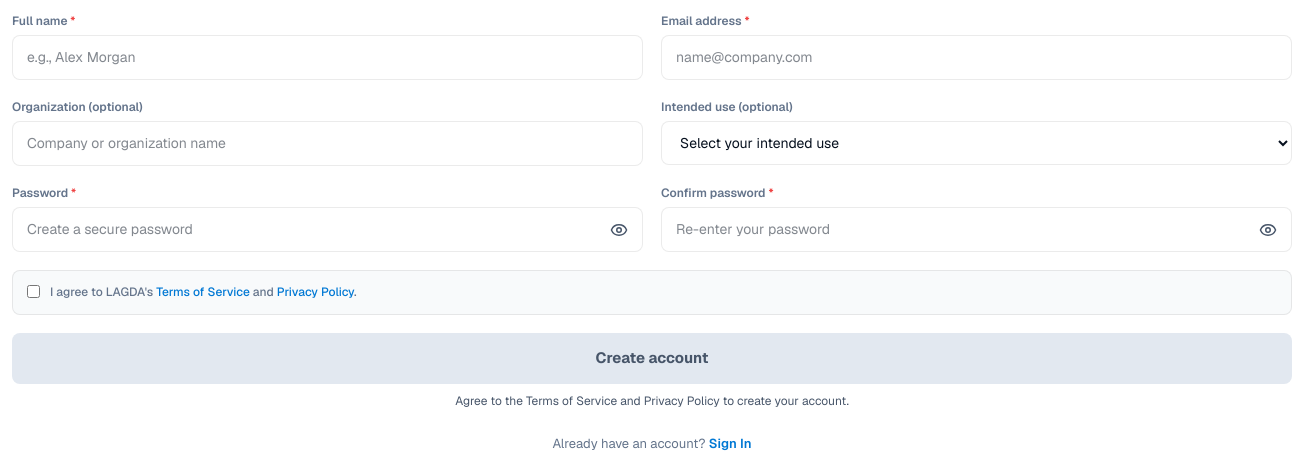
Test case: Create account — show / hide › gives Password and Confirm password their own, independent toggles
This screenshot has width=1304, height=468.
Click the button named "Show password".
click(619, 230)  # box [599,210,639,250]
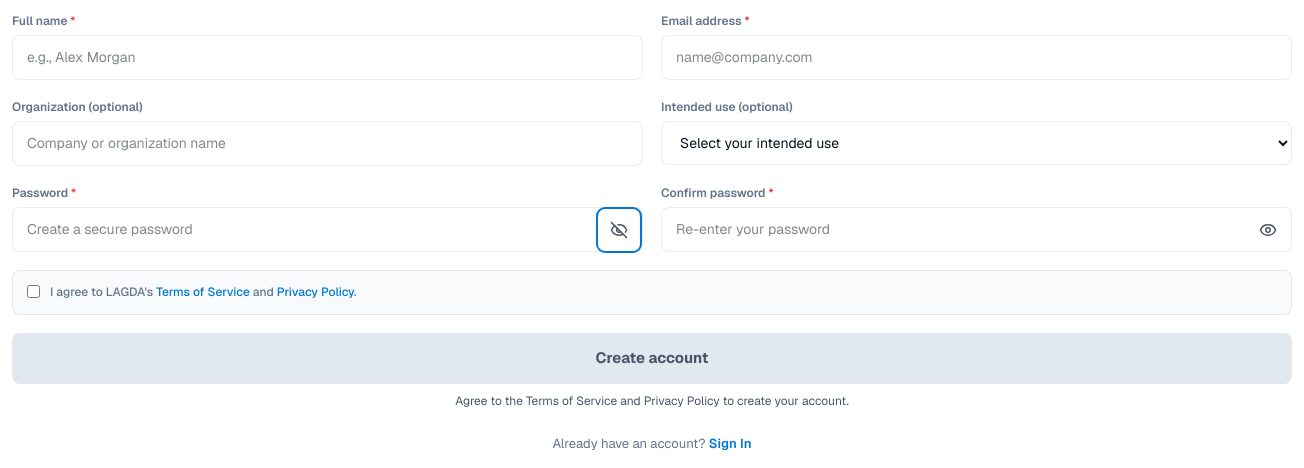
Check: the button named "Hide password" is pressed, box [599,210,639,250]
Click the button named "Show confirm password".
click(1268, 230)  # box [1248,210,1288,250]
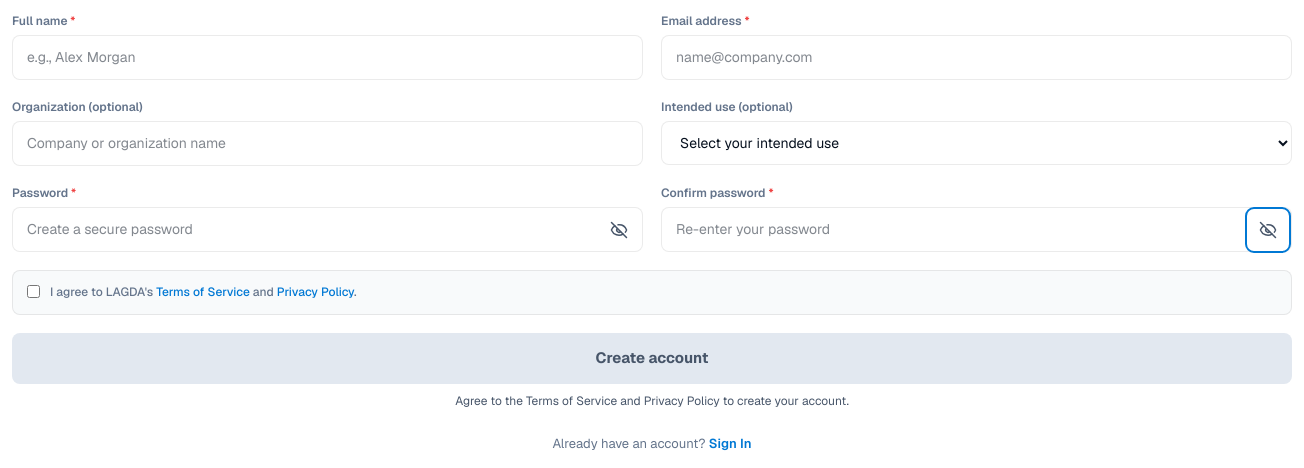
Check: the button named "Hide confirm password" is pressed, box [1248,210,1288,250]
Click the button named "Hide password".
click(619, 230)  # box [599,210,639,250]
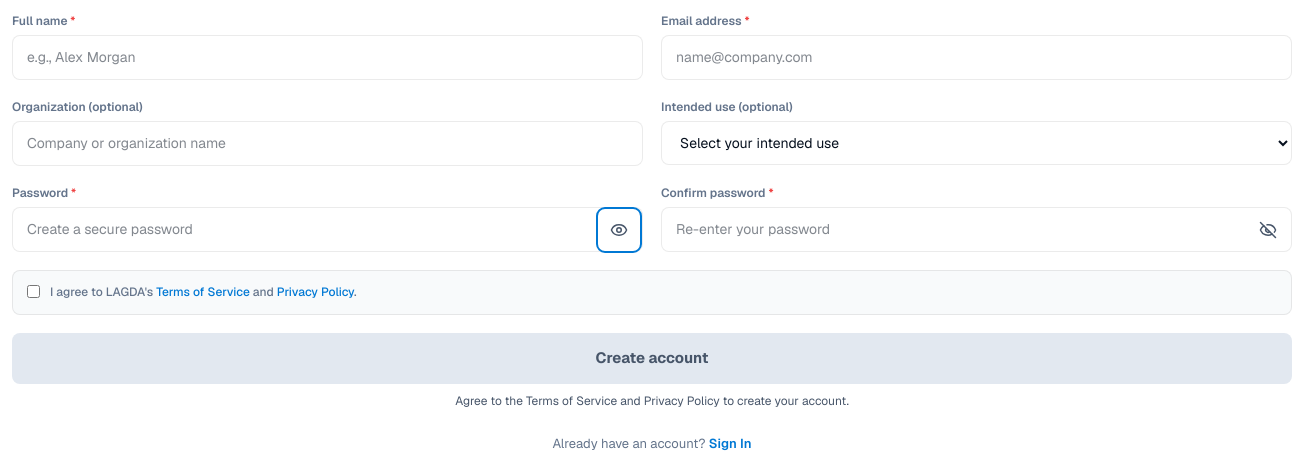
Check: the button named "Show password" is shown, box [599,210,639,250]
